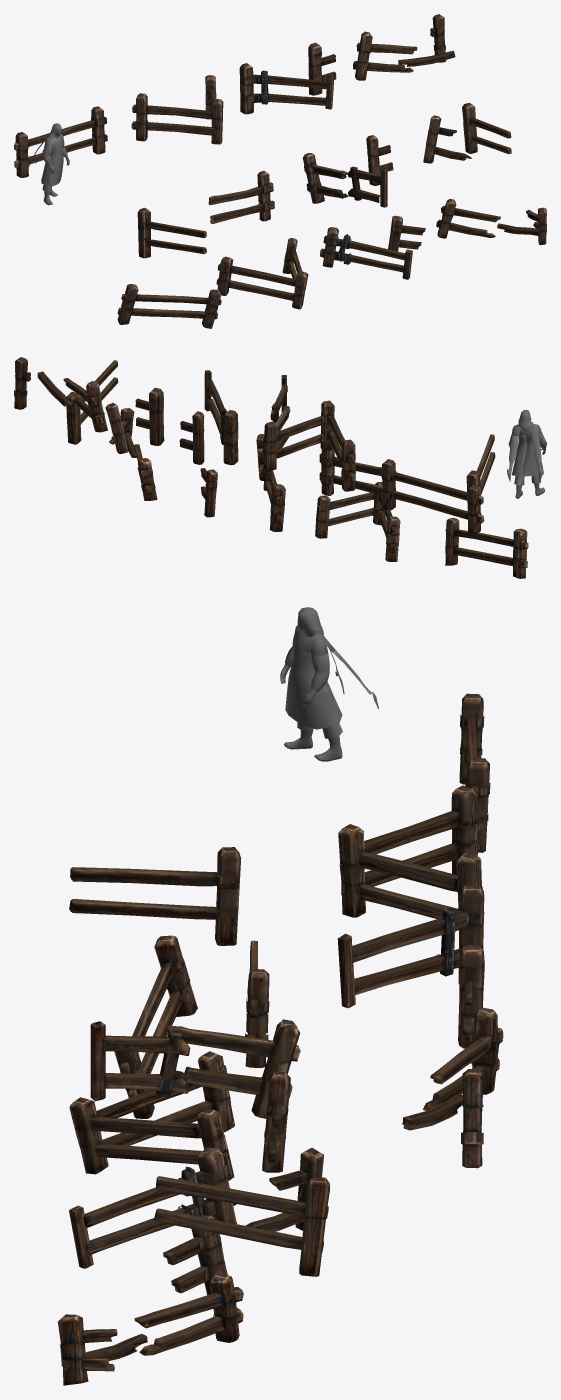
Rendered from wooden_fence_sheet.glb.
3 views of the same model, one above another, from view 1: azimuth 30°, elevation 25°; view 2: azimuth 150°, elevation 25°; view 3: azimuth 270°, elevation 25° (orthographic). The views are drawn at different scales.
Parts seen in each view (by area): view 1: tripo_2f39d8a0_8956_4e91_ab9b_930d9e21614f; view 2: tripo_2f39d8a0_8956_4e91_ab9b_930d9e21614f; view 3: tripo_2f39d8a0_8956_4e91_ab9b_930d9e21614f.
Part boxes in pixels (left/top/right/bottom): tripo_2f39d8a0_8956_4e91_ab9b_930d9e21614f: left=14, top=14, right=546, bottom=328; tripo_2f39d8a0_8956_4e91_ab9b_930d9e21614f: left=14, top=357, right=546, bottom=578; tripo_2f39d8a0_8956_4e91_ab9b_930d9e21614f: left=57, top=607, right=503, bottom=1385.
Bounding box in the file's own units: 0.9995 × 0.4204 × 0.4233.
1 material, 1 textured.
